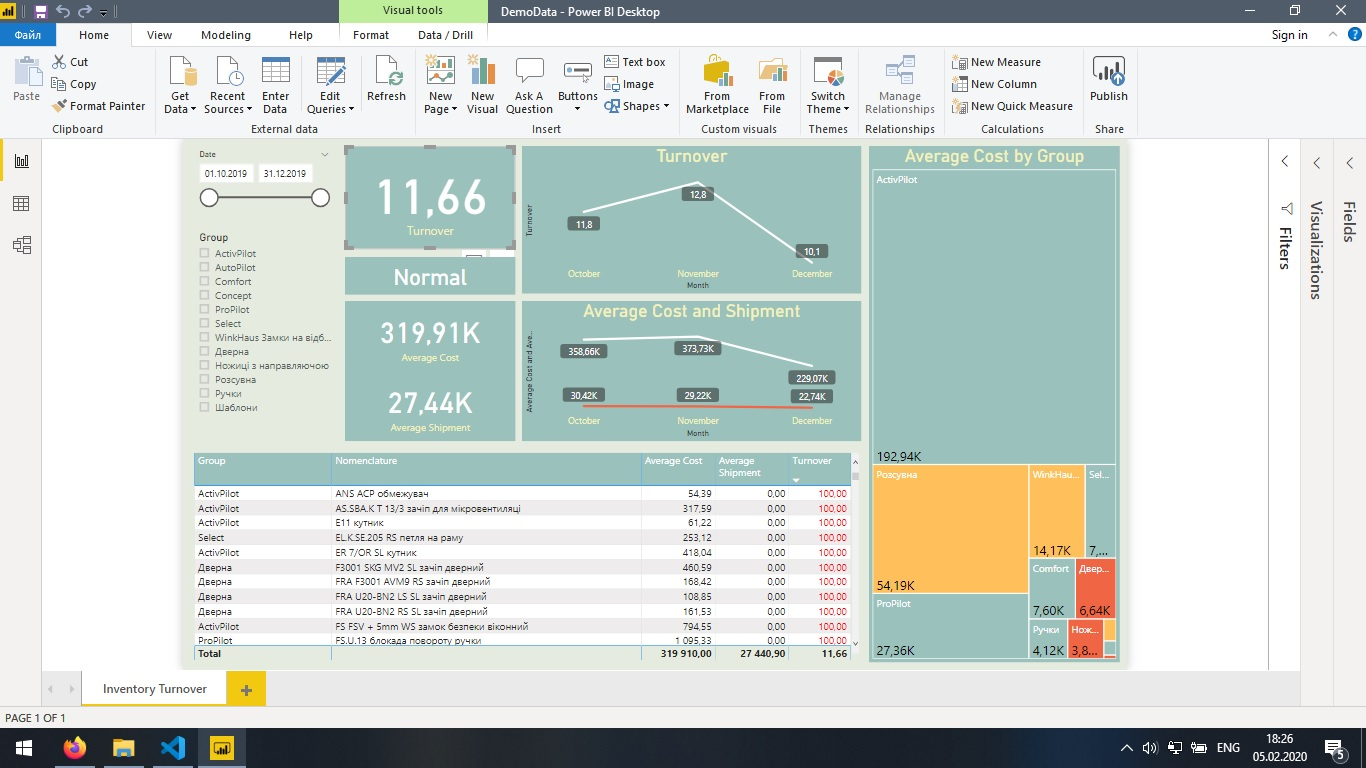

This screenshot's page, from the dashboard's own definition file:
{"tool":"powerbi","page":{"name":"Inventory Turnover","canvas":[1280,720],"ordinal":0},"visuals":[{"type":"card","title":"Total turnover (days)","fields":{"Values":["RAW_Data.Turnover"]},"box":[219.7,9.5,230.7,140],"z":0},{"type":"lineChart","title":"Turnover","fields":{"Y":["RAW_Data.Turnover"],"Category":["RAW_Data.Date.Variation.Date Hierarchy.Month","RAW_Data.Date.Variation.Date Hierarchy.Day"]},"box":[460,10,460,200],"z":1000},{"type":"tableEx","fields":{"Values":["RAW_Data.Group","RAW_Data.Nomenclature","RAW_Data.Average Daily Cost2","RAW_Data.Average_Decrease","RAW_Data.Turnover"]},"box":[9.5,420.3,911.8,290.8],"z":2000},{"type":"lineChart","title":"Average Cost and Shipment","fields":{"Category":["RAW_Data.Date.Variation.Date Hierarchy.Month","RAW_Data.Date.Variation.Date Hierarchy.Day"],"Y":["RAW_Data.Average Daily Cost2","RAW_Data.Average Shipment"]},"box":[460,220,460,190],"z":3000},{"type":"treemap","fields":{"Group":["RAW_Data.Group"],"Values":["RAW_Data.Average Daily Cost2"]},"box":[930,10,340,700],"z":4000},{"type":"slicer","fields":{"Values":["RAW_Data.Date"]},"box":[10,10,200,100],"z":6001},{"type":"slicer","fields":{"Values":["RAW_Data.Group"]},"box":[10,120,200,290],"z":6002},{"type":"card","fields":{"Values":["RAW_Data.Average Cost"]},"box":[219.7,219.7,230.7,94.8],"z":6003},{"type":"card","fields":{"Values":["RAW_Data.Average Shipment"]},"box":[219.7,314.5,230.7,94.8],"z":6004},{"type":"card","fields":{"Values":["RAW_Data.Turnover Ranges"]},"box":[219.7,159.6,230.7,50.6],"z":6005}]}

Visuals, with their boxes on the page's 1280x720 design canvas (x1, y1, x2, y2). These are canvas units, not pixel positions in the 1366x768 screenshot, which may show the page scaled, cropped or inside an application window:
"Total turnover (days)" card: (x1=220, y1=10, x2=450, y2=150)
"Turnover" lineChart: (x1=460, y1=10, x2=920, y2=210)
tableEx - RAW_Data.Group x RAW_Data.Nomenclature: (x1=10, y1=420, x2=921, y2=711)
"Average Cost and Shipment" lineChart: (x1=460, y1=220, x2=920, y2=410)
treemap - RAW_Data.Group x RAW_Data.Average Daily Cost2: (x1=930, y1=10, x2=1270, y2=710)
slicer - RAW_Data.Date: (x1=10, y1=10, x2=210, y2=110)
slicer - RAW_Data.Group: (x1=10, y1=120, x2=210, y2=410)
card - RAW_Data.Average Cost: (x1=220, y1=220, x2=450, y2=314)
card - RAW_Data.Average Shipment: (x1=220, y1=314, x2=450, y2=409)
card - RAW_Data.Turnover Ranges: (x1=220, y1=160, x2=450, y2=210)
